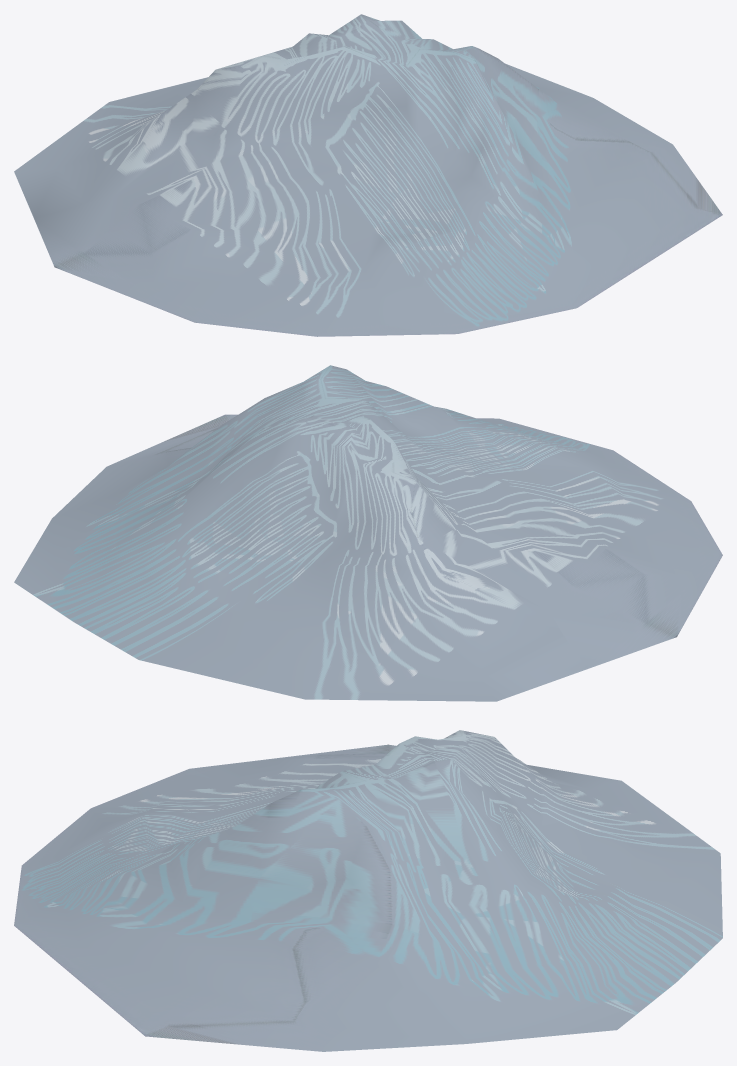
The model's file is mountainR_2050.glb.
The picture shows the model from 3 angles, top to bottom: view 1: azimuth 30°, elevation 25°; view 2: azimuth 150°, elevation 25°; view 3: azimuth 270°, elevation 25°; orthographic projection. The views are drawn at different scales.
Parts seen in each view (by area): view 1: mountain.R; view 2: mountain.R; view 3: mountain.R.
Boxes of the visible parts, x1,y1,x2,y2 form: mountain.R: (14,14,722,336); mountain.R: (14,365,722,701); mountain.R: (14,730,722,1051).
Bounding box in the file's own units: 116 × 28.59 × 113.
Materials: 1 (1 with a texture image).
